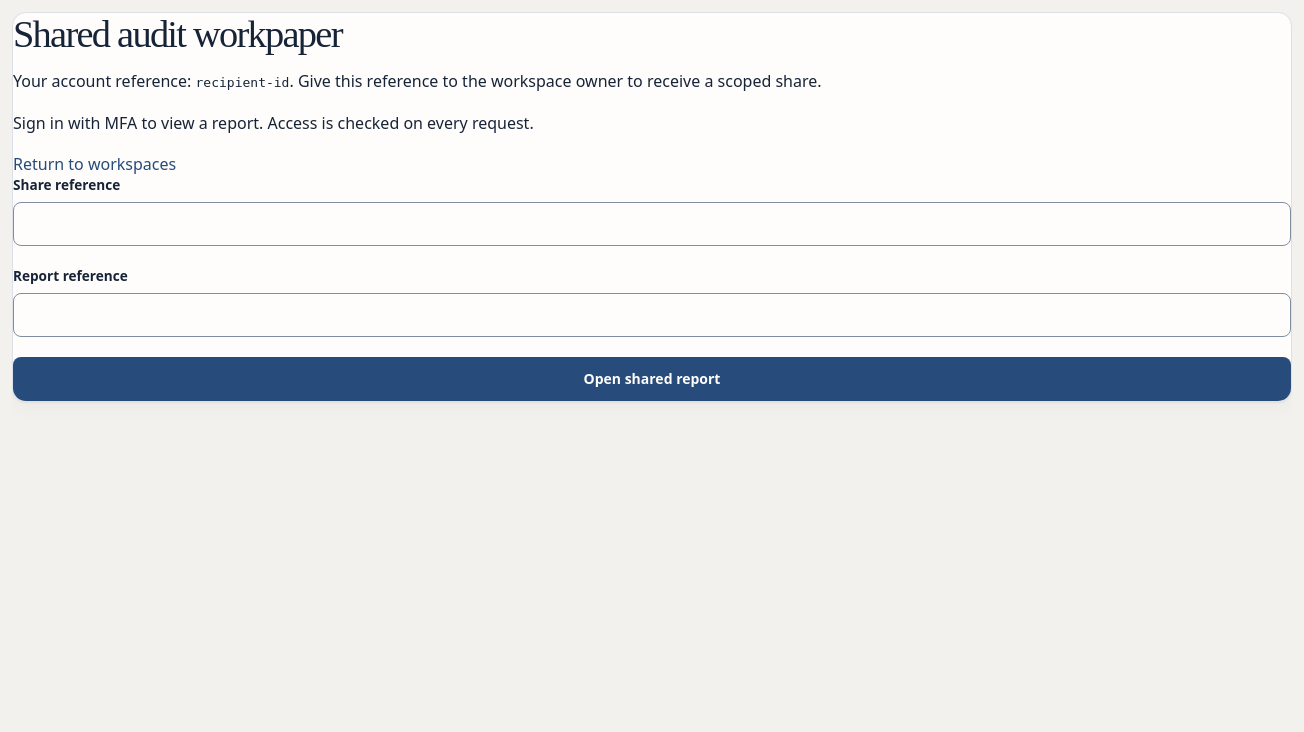
opens only the named workpaper and explains snapshot scope
Type "grant-id" into the field labelled "Share reference" at (652, 224), box x1=13 y1=202 x2=1291 y2=246
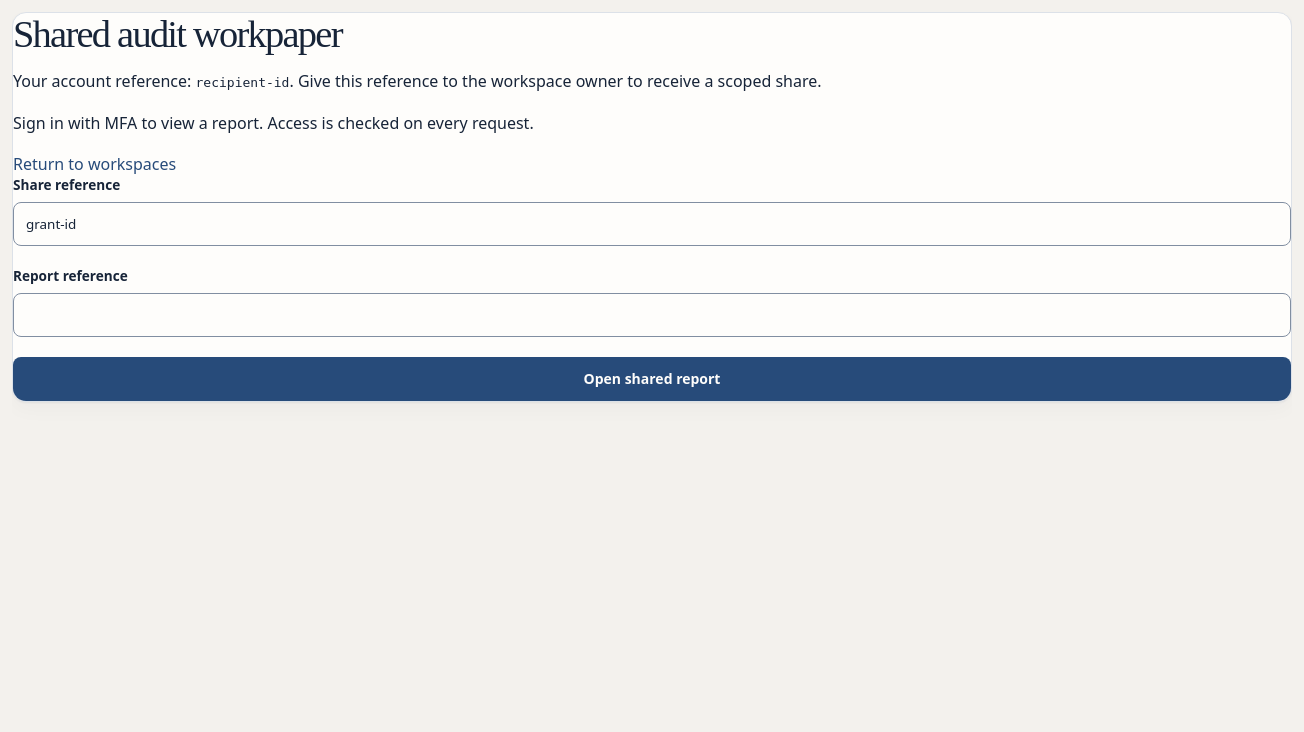
Type "report-id" into the field labelled "Report reference" at (652, 315), box x1=13 y1=293 x2=1291 y2=337
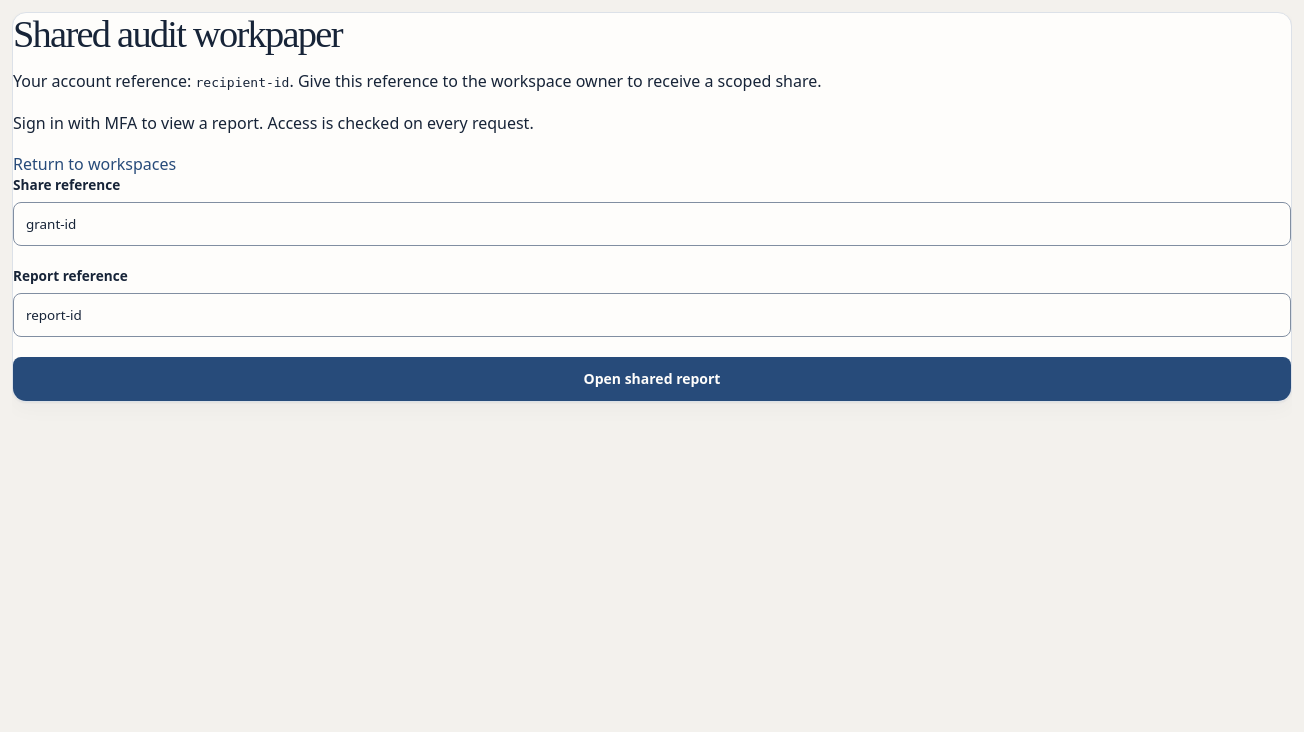
Click the button "Open shared report" at (652, 379), box x1=13 y1=357 x2=1291 y2=401
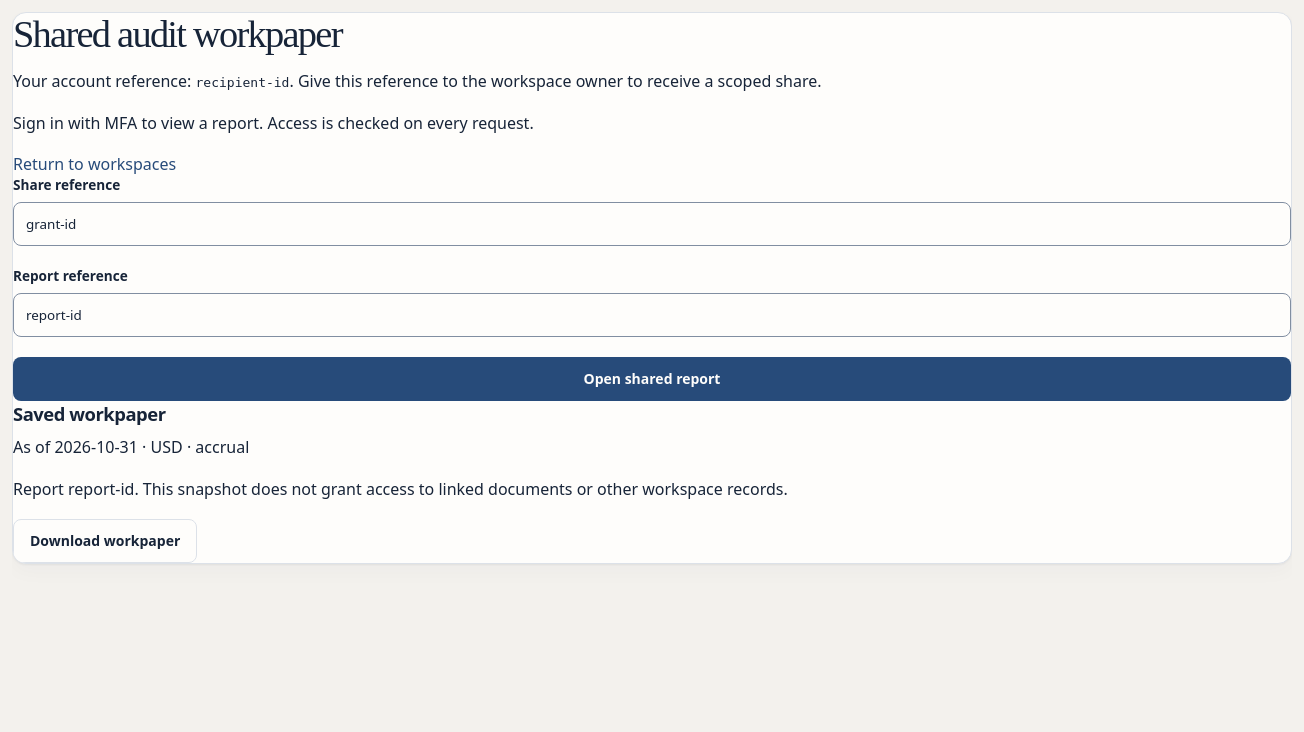
expect the text "does not grant access to linked documents" is shown: met, box x1=134 y1=478 x2=788 y2=500
expect the button "Download workpaper" is enabled: met, box x1=13 y1=519 x2=197 y2=563
